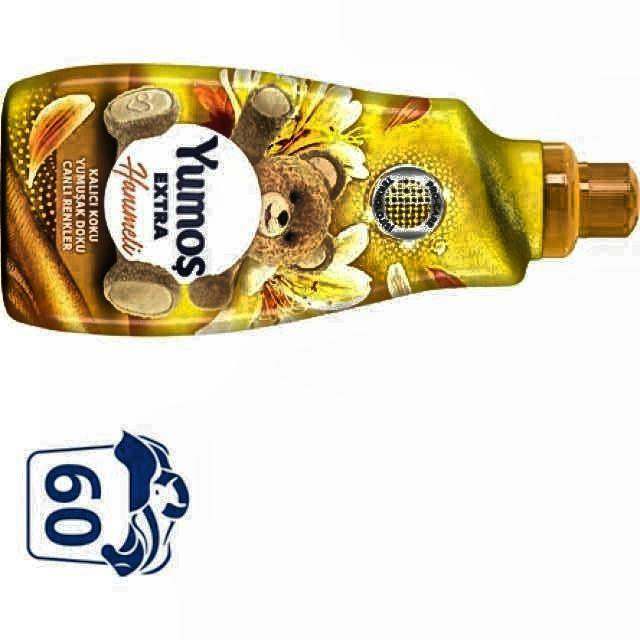plastic: (0, 64, 640, 335)
